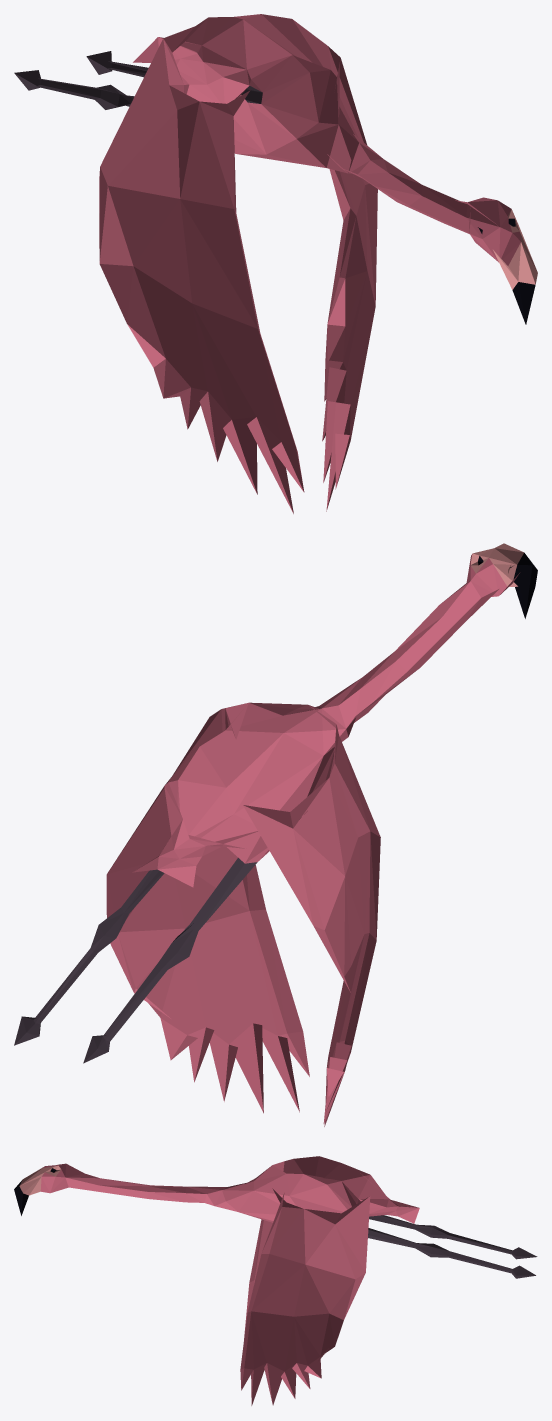
File: Flamingo_pink_v1_mirrored.glb
3 renders of one model, top to bottom at view 1: azimuth 30°, elevation 25°; view 2: azimuth 150°, elevation 25°; view 3: azimuth 270°, elevation 25°, orthographic. The views are drawn at different scales.
Size of the model in its own units: 52.2 by 89.1 by 177.
